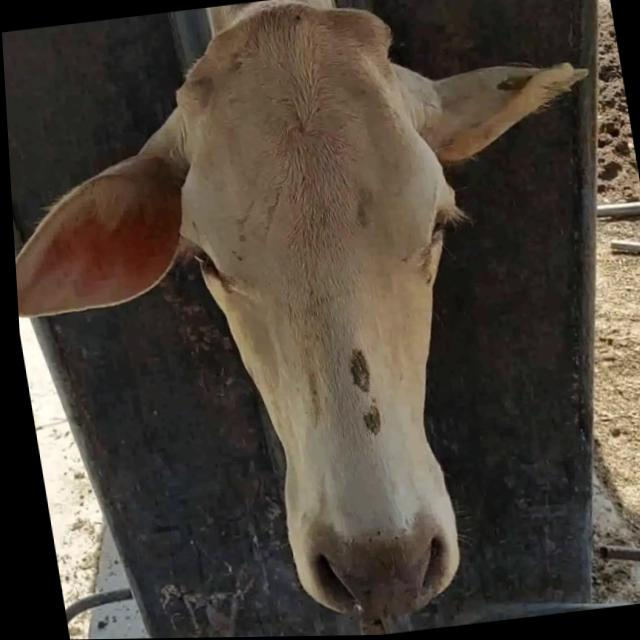cowFace: (142, 0, 512, 622)
